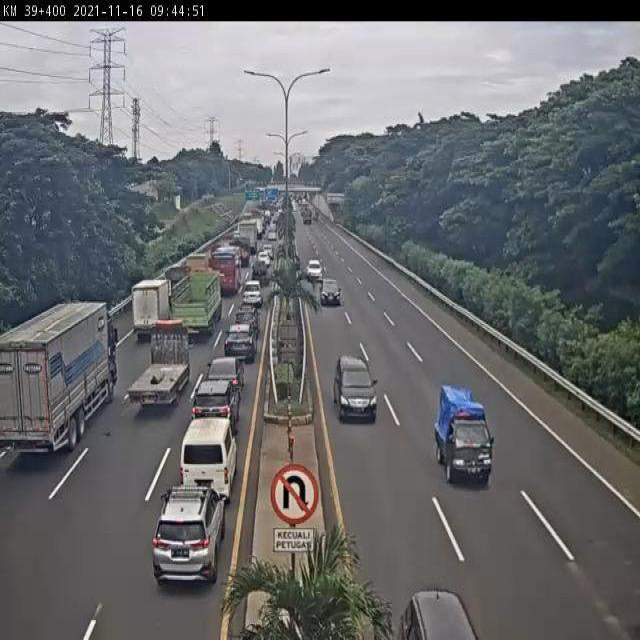big bus: (207, 247, 244, 296)
car: (150, 490, 222, 586), (431, 385, 492, 483), (333, 353, 379, 424), (188, 382, 236, 447), (205, 355, 246, 396), (223, 327, 255, 365), (319, 274, 341, 310), (232, 308, 259, 335), (236, 288, 261, 316)
small bus: (183, 419, 238, 500)
small truck: (182, 253, 211, 296)
truck-l-: (0, 300, 119, 449), (168, 267, 223, 340)
truck-m-: (129, 325, 192, 411), (131, 273, 170, 336)
